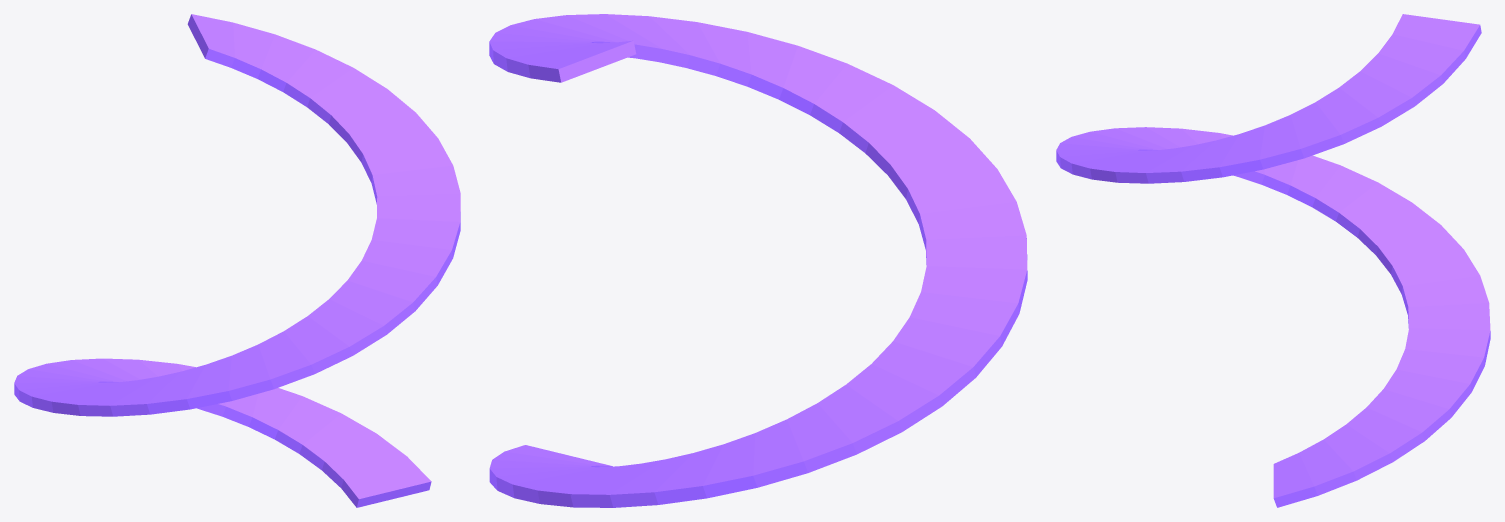
File: symbol-creative.glb
3 renders of one model, left to right at view 1: azimuth 30°, elevation 25°; view 2: azimuth 150°, elevation 25°; view 3: azimuth 270°, elevation 25°, orthographic. The views are drawn at different scales.
Parts seen in each view (by area): view 1: symbol-creative_AccentMaterial; view 2: symbol-creative_AccentMaterial; view 3: symbol-creative_AccentMaterial.
Boxes of the visible parts, x1,y1,x2,y2 form: symbol-creative_AccentMaterial: (14,14,460,507); symbol-creative_AccentMaterial: (489,14,1027,507); symbol-creative_AccentMaterial: (1056,14,1490,507).
Bounding box in the file's own units: 0.9591 × 1.02 × 0.9596.
